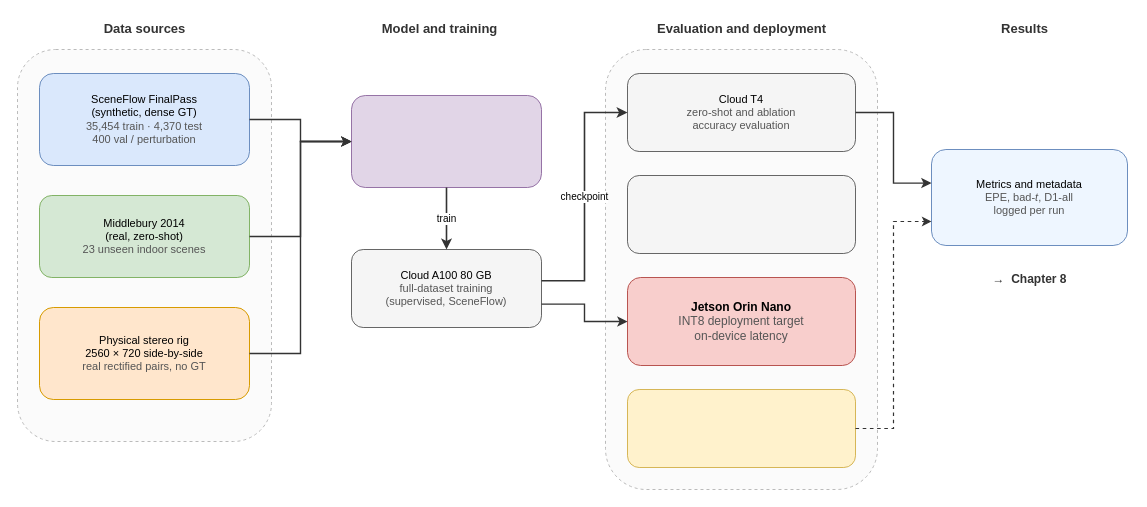
This 1147x507 diagram has some shape labels left out. The centre of each missing label's shape, as x and y in pixels:
"RTX 3050 laptop latency benchmark (fp16)" goes at point (741, 214).
"Scripted evaluation drivers full-test · MB14 · rectification sweep" goes at point (741, 428).
"StereoLite 2.96 M parameters compact recurrent tile-plane network" goes at point (446, 141).
